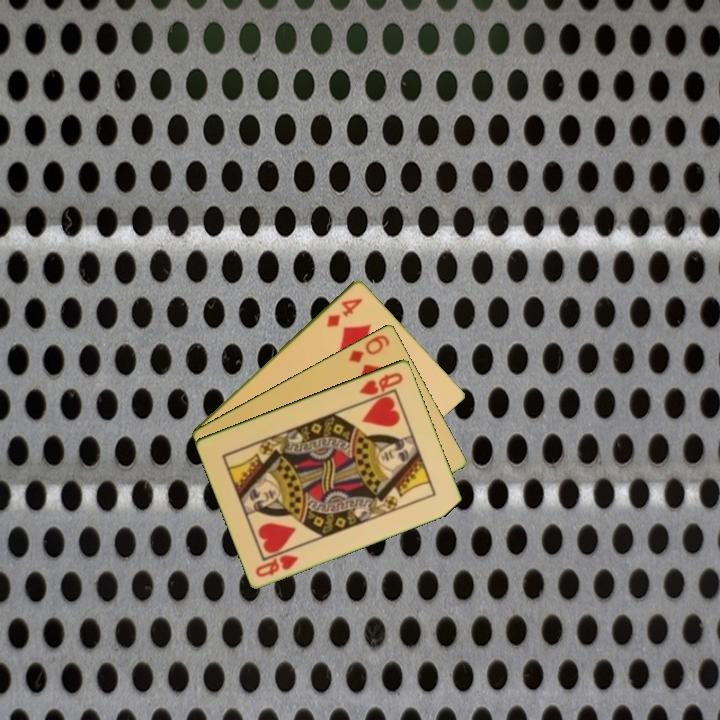4d: (323, 294, 366, 330)
6d: (345, 331, 393, 365)
Qh: (356, 369, 406, 398), (252, 551, 302, 580)
